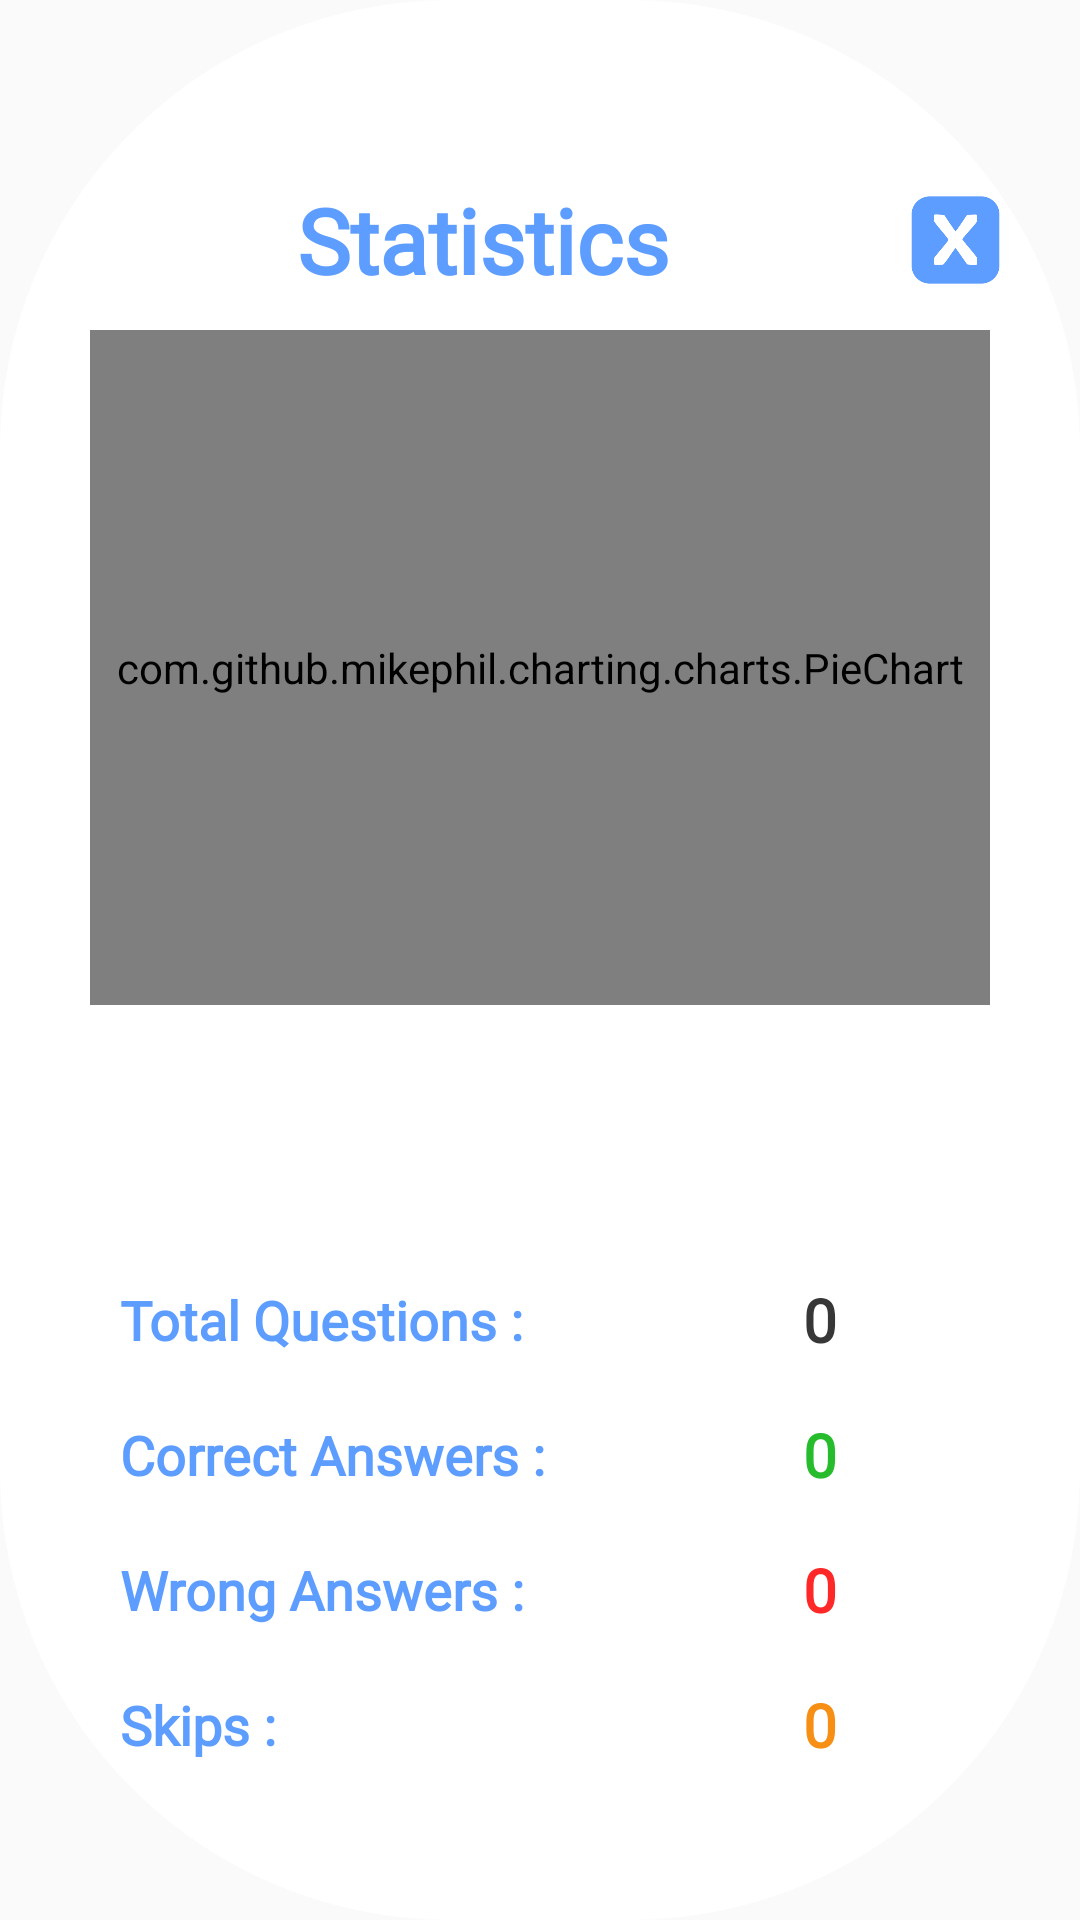

Point at icon controls on the screen. Image size 1080px x 1920px, points as (x=x, y=y).
close: (x=955, y=240)
